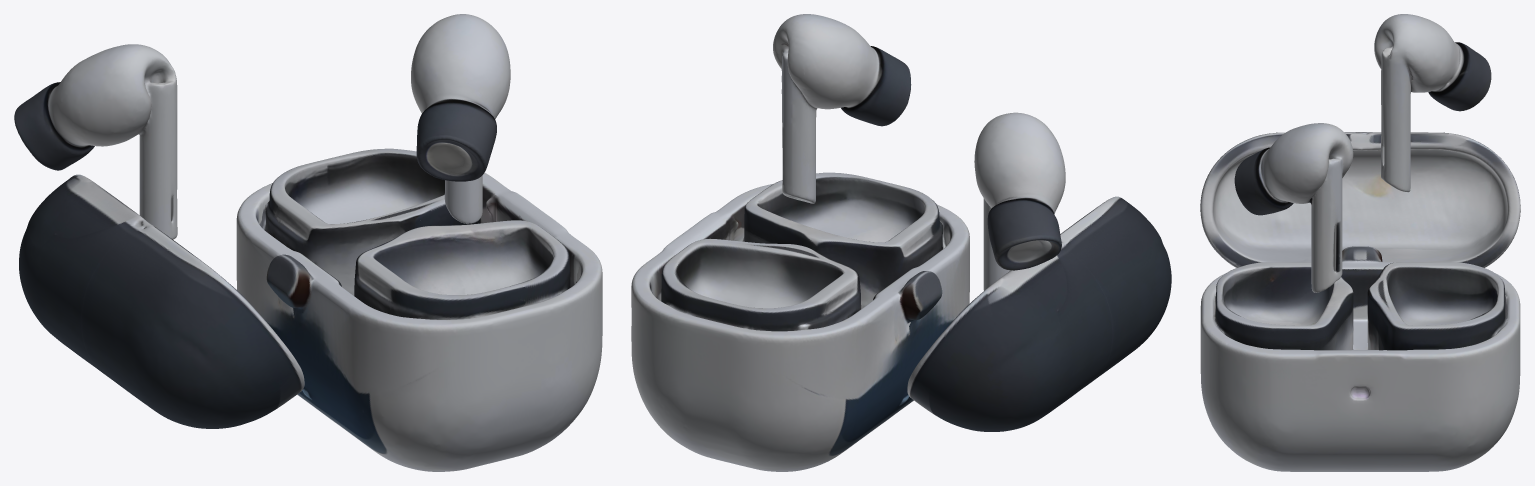
The model's file is Samsung buds pro 3.glb.
3 views of the same model, side by side, from view 1: azimuth 30°, elevation 25°; view 2: azimuth 150°, elevation 25°; view 3: azimuth 270°, elevation 25° (orthographic). The views are drawn at different scales.
Visible parts, largest first — view 1: tripo_node_68915cc3-0e10-4e26-b306-5b380df26edc; view 2: tripo_node_68915cc3-0e10-4e26-b306-5b380df26edc; view 3: tripo_node_68915cc3-0e10-4e26-b306-5b380df26edc.
Part boxes in pixels (x1=…): tripo_node_68915cc3-0e10-4e26-b306-5b380df26edc: x1=14, y1=14, x2=602, y2=471; tripo_node_68915cc3-0e10-4e26-b306-5b380df26edc: x1=631, y1=14, x2=1171, y2=471; tripo_node_68915cc3-0e10-4e26-b306-5b380df26edc: x1=1200, y1=14, x2=1520, y2=471.
Size of the model in its own units: 0.953 by 0.8266 by 0.7163.
1 material, 1 textured.
